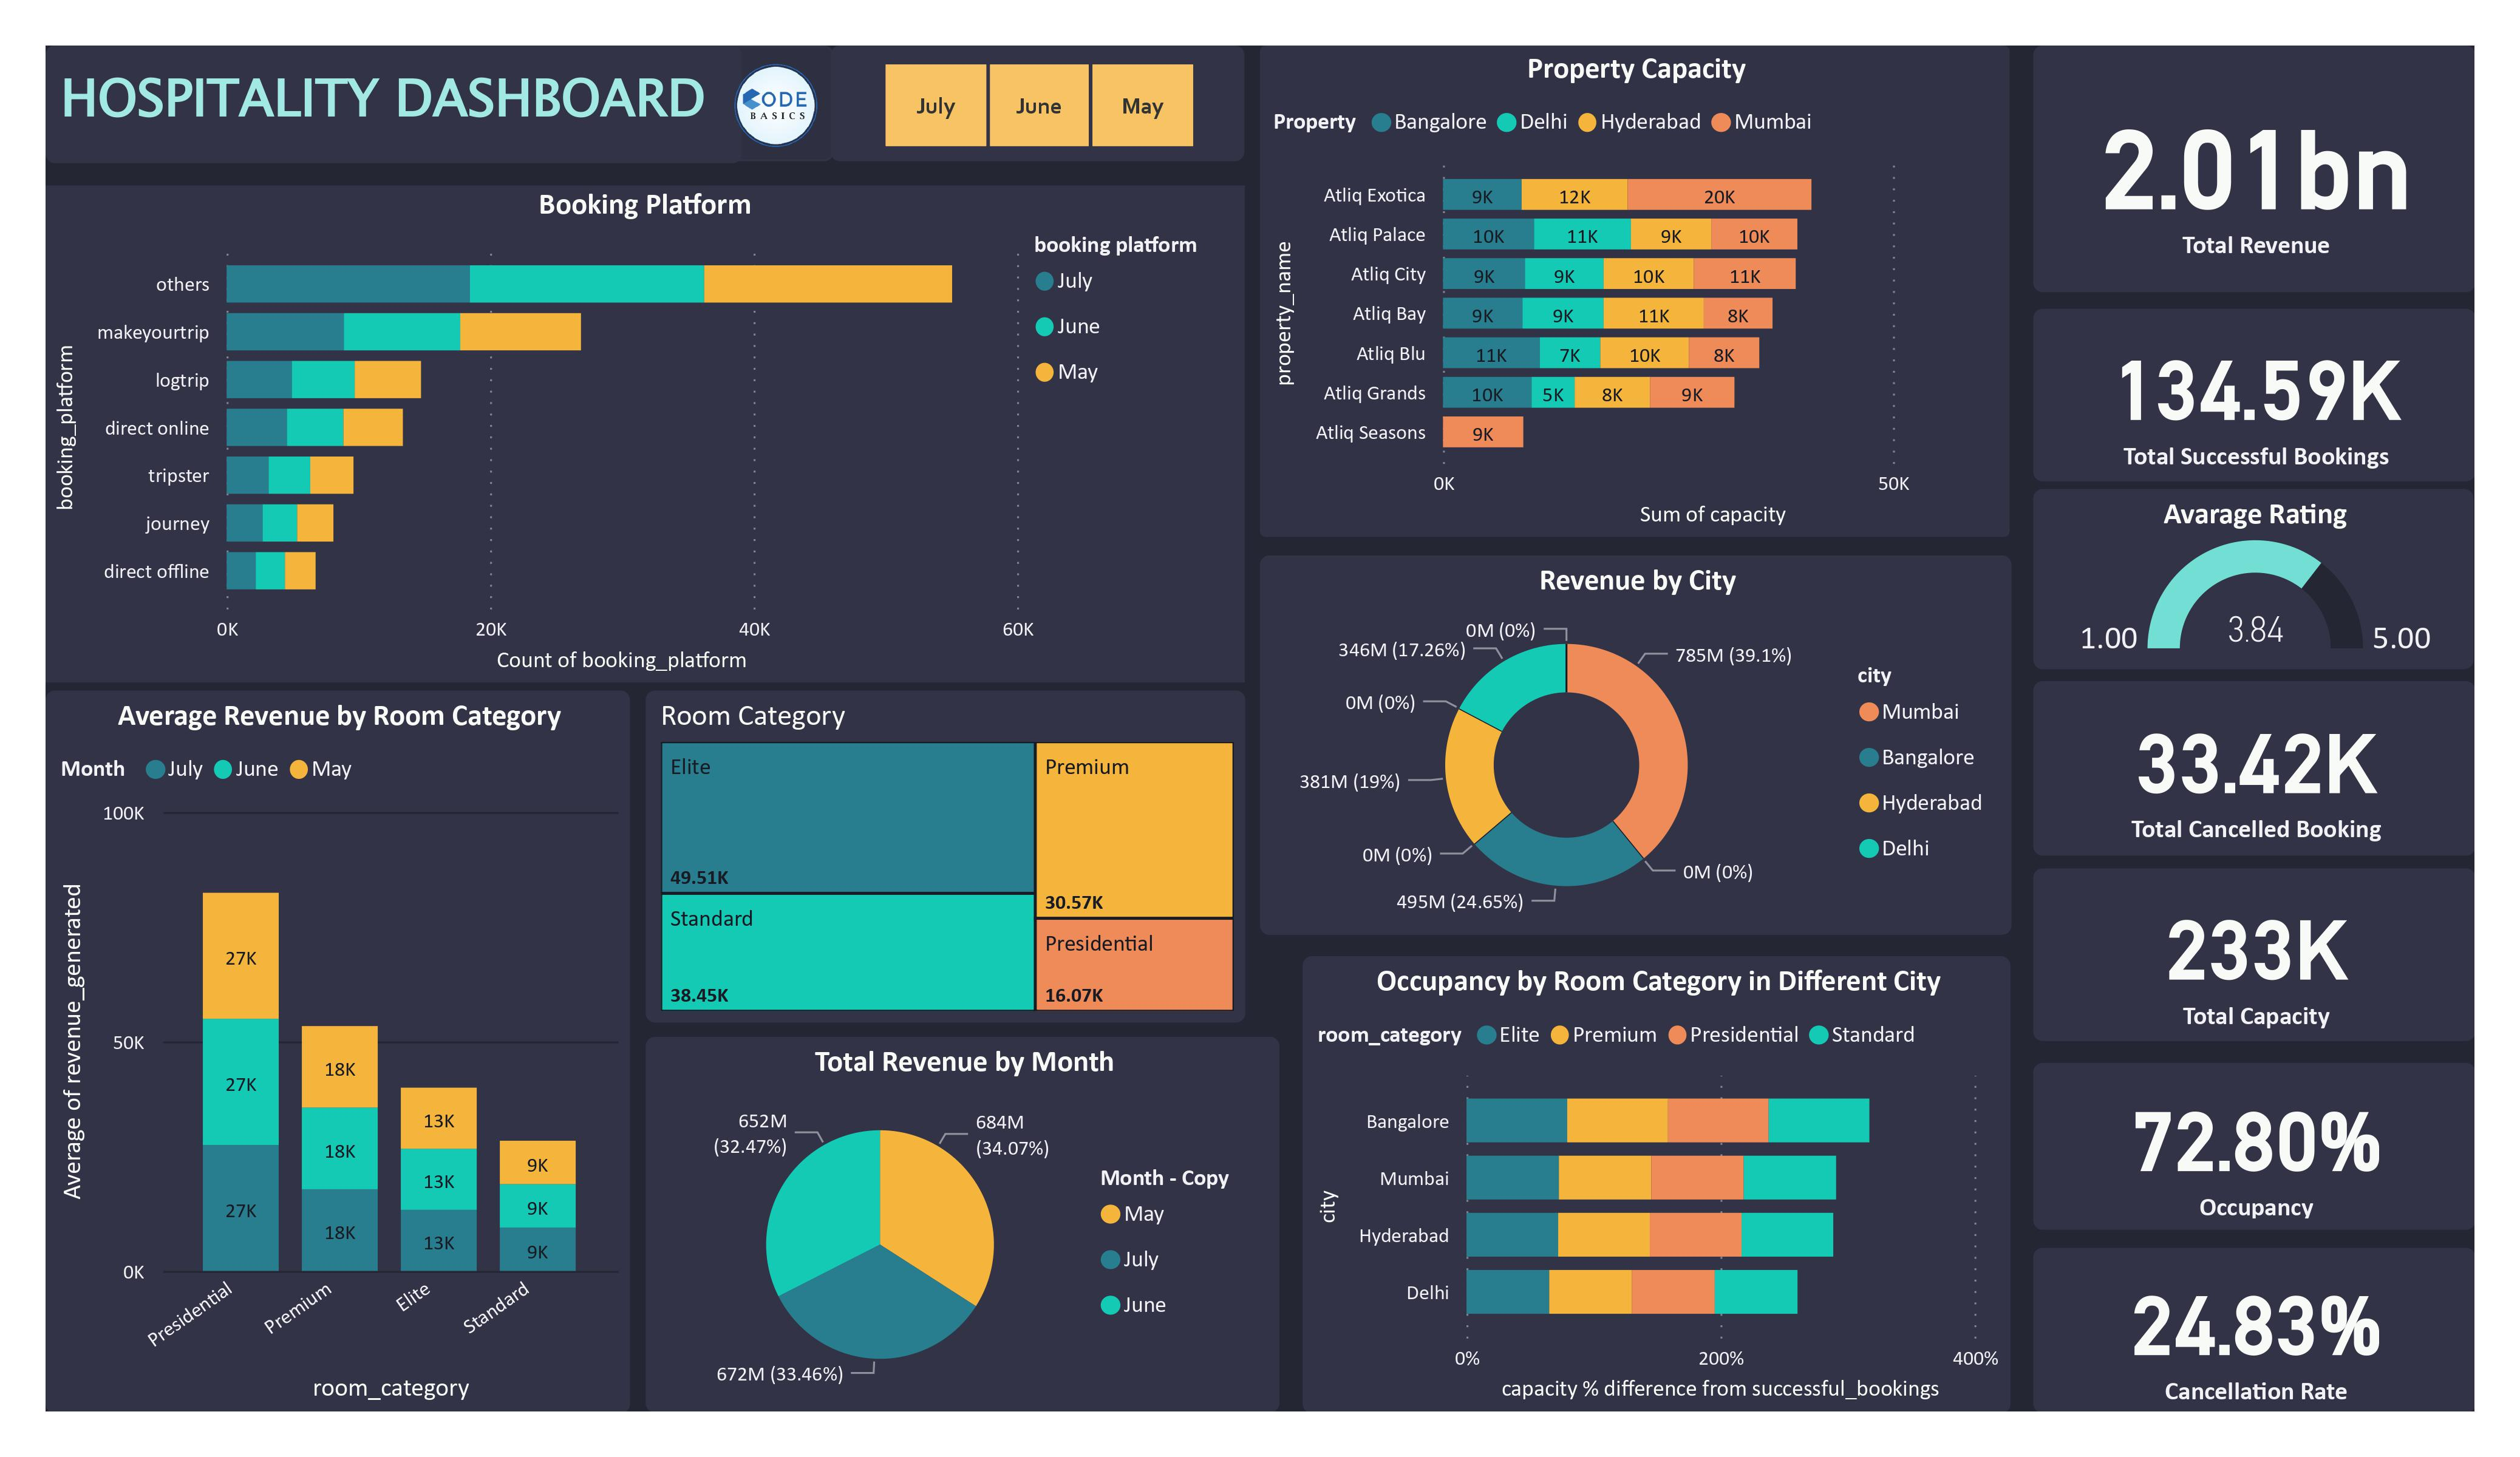

The page's visual inventory and layout, read from the dashboard file:
{"tool":"powerbi","page":{"name":"Page 1","canvas":[1280,720],"ordinal":0},"visuals":[{"type":"card","fields":{"Values":["Sum(fact_bookings.revenue_generated)"]},"box":[1047.4,0,232.6,130],"z":0},{"type":"gauge","title":"Avarage Rating","fields":{"Y":["Avg(fact_bookings.ratings_given)"],"MinValue":["Min(fact_bookings.ratings_given)"],"MaxValue":["Max(fact_bookings.ratings_given)1"]},"box":[1047.4,233.8,232,95],"z":1000},{"type":"barChart","title":"Booking Platform","fields":{"Category":["fact_bookings.booking_platform"],"Y":["CountNonNull(fact_bookings.booking_platform)"],"Series":["fact_bookings.Month - Copy"]},"box":[0,74.1,631.9,261.6],"z":2000},{"type":"donutChart","title":"Revenue by City","fields":{"Category":["dim_hotels.city"],"Y":["Sum(fact_bookings.revenue_generated)","CountNonNull(dim_hotels.city)"]},"box":[640.6,268.4,396,200.4],"z":3000},{"type":"barChart","title":"Property Capacity","fields":{"Category":["dim_hotels.property_name"],"Y":["Sum(fact_aggregated_bookings.capacity)"],"Series":["dim_hotels.city"]},"box":[640.6,0,394.9,258.9],"z":4000},{"type":"treemap","title":"Room Category","fields":{"Group":["fact_bookings.room_category"],"Values":["CountNonNull(fact_bookings.room_category)"]},"box":[315.9,340.3,315.9,174.8],"z":5000},{"type":"card","fields":{"Values":["Sum(fact_aggregated_bookings.capacity)"]},"box":[1047.4,434.2,232.6,90.7],"z":6000},{"type":"card","fields":{"Values":["Sum(fact_aggregated_bookings.successful_bookings)"]},"box":[1047.4,138.4,232.6,90.7],"z":7000},{"type":"card","fields":{"Values":["fact_aggregated_bookings.capacity % difference from successful_bookings"]},"box":[1047.4,535.8,232.6,88],"z":8000},{"type":"card","fields":{"Values":["fact_bookings (2).Sum of Count % difference from Count of booking_id"]},"box":[1047.4,633.4,232.6,87.1],"z":9000},{"type":"card","fields":{"Values":["Sum(fact_bookings.cancelled booking)"]},"box":[1047.4,335.2,232.6,91.9],"z":10000},{"type":"columnChart","title":"Average Revenue by Room Category","fields":{"Category":["fact_bookings.room_category"],"Y":["Avg(fact_bookings.revenue_generated)"],"Series":["fact_bookings.Month - Copy"]},"box":[0,340.3,307.8,380.8],"z":11000},{"type":"pieChart","title":"Total Revenue by Month","fields":{"Category":["fact_bookings.Month - Copy"],"Y":["Sum(fact_bookings.revenue_generated)"]},"box":[315.9,522,334.5,197.9],"z":12000},{"type":"barChart","title":"Occupancy by Room Category in Different City ","fields":{"Y":["fact_aggregated_bookings.capacity % difference from successful_bookings"],"Category":["dim_hotels.city"],"Series":["fact_bookings.room_category"]},"box":[662.1,479.6,373.4,241],"z":13000},{"type":"textbox","box":[0,0,366.6,61.5],"z":14000},{"type":"slicer","fields":{"Values":["fact_bookings.Month - Copy"]},"box":[414.3,0,217.6,61.3],"z":15000},{"type":"image","box":[350.7,0,63.7,61.3],"z":16000}]}

Visuals, with their boxes on the page's 1280x720 design canvas (x1, y1, x2, y2). These are canvas units, not pixel positions in the 2520x1457 screenshot, which may show the page scaled, cropped or inside an application window:
card - Sum(fact_bookings.revenue_generated): 1047, 0, 1280, 130
"Avarage Rating" gauge: 1047, 234, 1279, 329
"Booking Platform" barChart: 0, 74, 632, 336
"Revenue by City" donutChart: 641, 268, 1037, 469
"Property Capacity" barChart: 641, 0, 1036, 259
"Room Category" treemap: 316, 340, 632, 515
card - Sum(fact_aggregated_bookings.capacity): 1047, 434, 1280, 525
card - Sum(fact_aggregated_bookings.successful_bookings): 1047, 138, 1280, 229
card - fact_aggregated_bookings.capacity % difference from successful_bookings: 1047, 536, 1280, 624
card - fact_bookings (2).Sum of Count % difference from Count of booking_id: 1047, 633, 1280, 720
card - Sum(fact_bookings.cancelled booking): 1047, 335, 1280, 427
"Average Revenue by Room Category" columnChart: 0, 340, 308, 721
"Total Revenue by Month" pieChart: 316, 522, 650, 720
"Occupancy by Room Category in Different City " barChart: 662, 480, 1036, 721
textbox: 0, 0, 367, 62
slicer - fact_bookings.Month - Copy: 414, 0, 632, 61
image: 351, 0, 414, 61
